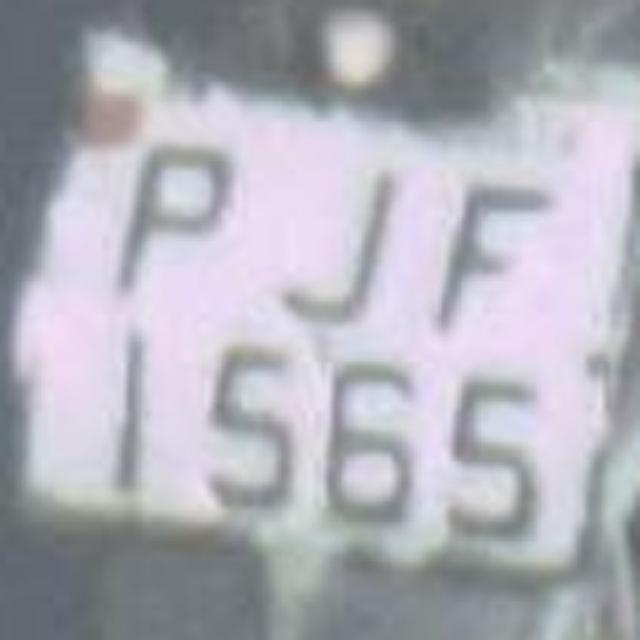1: (76, 292, 184, 500)
5: (164, 316, 328, 516), (420, 352, 565, 560)
6: (291, 335, 444, 540)
F: (420, 148, 552, 372)
J: (245, 144, 420, 336)
P: (100, 115, 248, 320)
